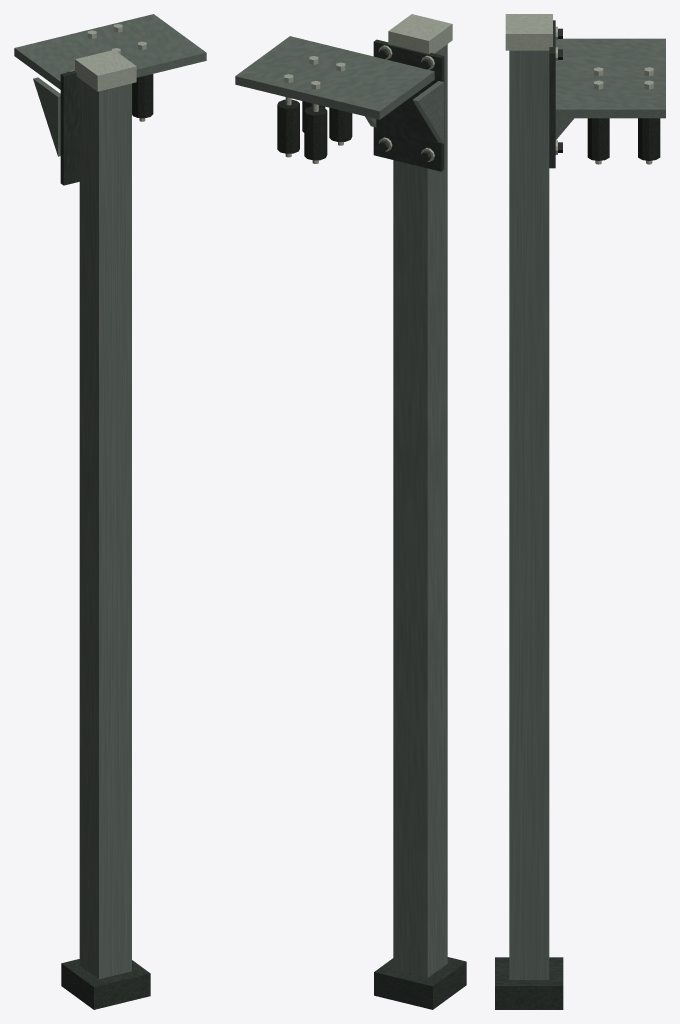
The model's file is SG_GuidePost.glb.
3 renders of one model, left to right at view 1: azimuth 30°, elevation 25°; view 2: azimuth 150°, elevation 25°; view 3: azimuth 270°, elevation 25°, orthographic. The views are drawn at different scales.
Parts seen in each view (by area): view 1: SG_Post_Right; view 2: SG_Post_Right; view 3: SG_Post_Right.
Part boxes in pixels (x1,y1,x2,y2): SG_Post_Right: (14, 14, 206, 1009); SG_Post_Right: (235, 14, 466, 1009); SG_Post_Right: (495, 14, 665, 1009).
Bounding box in the file's own units: 0.341 × 2.04 × 0.325.
Materials: 1 (1 with a texture image).
